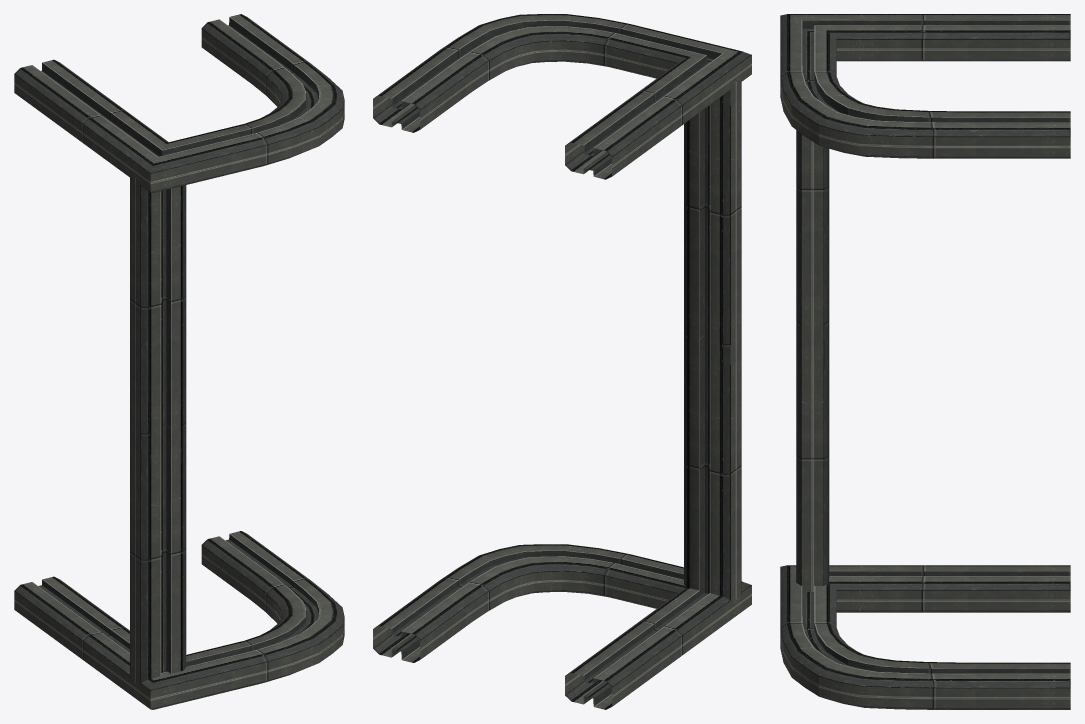
File: Neon_WindowHospCap01.FBX
The picture shows the model from 3 angles, left to right: view 1: azimuth 30°, elevation 25°; view 2: azimuth 150°, elevation 25°; view 3: azimuth 270°, elevation 25°; orthographic projection. The views are drawn at different scales.
Parts seen in each view (by area): view 1: Neon_WindowHospCap01; view 2: Neon_WindowHospCap01; view 3: Neon_WindowHospCap01.
Part boxes in pixels (x1=…): Neon_WindowHospCap01: x1=14, y1=14, x2=344, y2=709; Neon_WindowHospCap01: x1=373, y1=14, x2=751, y2=709; Neon_WindowHospCap01: x1=780, y1=14, x2=1070, y2=709.
Bounding box in the file's own units: 1.93 × 4.32 × 1.96.
